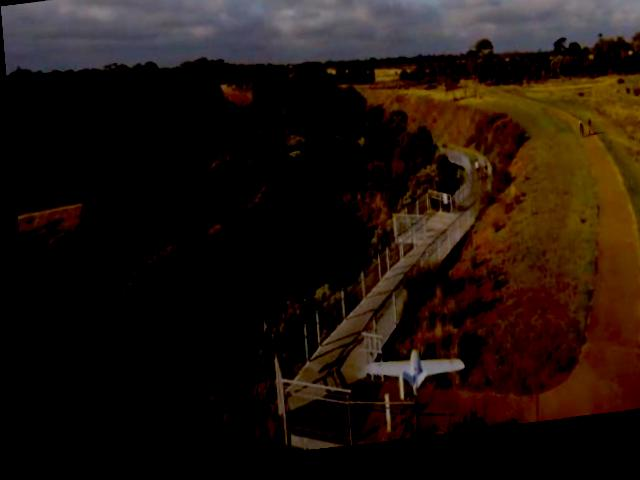iha: (354, 351, 462, 406)
